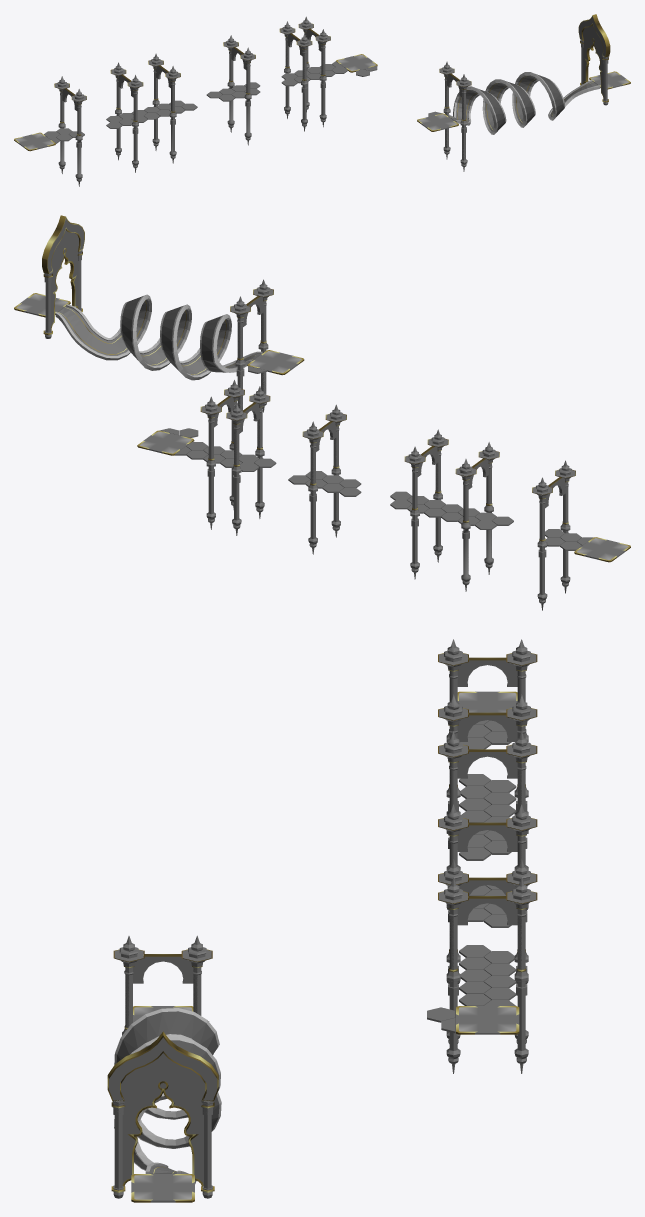
Rendered from NPSpace1.gltf.
The picture shows the model from 3 angles, top to bottom: view 1: azimuth 30°, elevation 25°; view 2: azimuth 150°, elevation 25°; view 3: azimuth 270°, elevation 25°; orthographic projection. The views are drawn at different scales.
Parts seen in each view (by area): view 1: stg070_k20_Mesh_0021, stg070_k20_Mesh_0008, stg070_k20_Mesh_0000, stg070_k20_Mesh_0011, stg070_o20_Mesh_0000, stg070_k20_Mesh_0002, stg070_k20_Mesh_0015, stg070_k20_Mesh_0027, stg070_k20_Mesh_0036, stg070_k20_Mesh_0033, stg070_k20_Mesh_0018, stg070_k20_Mesh_0007 (+1 smaller); view 2: stg070_k20_Mesh_0021, stg070_k20_Mesh_0011, stg070_k20_Mesh_0000, stg070_k20_Mesh_0002, stg070_o20_Mesh_0000, stg070_k20_Mesh_0008, stg070_k20_Mesh_0015, stg070_k20_Mesh_0027, stg070_k20_Mesh_0033, stg070_k20_Mesh_0036, stg070_k20_Mesh_0018, stg070_k20_Mesh_0007; view 3: stg070_k20_Mesh_0000, stg070_k20_Mesh_0021, stg070_k20_Mesh_0027, stg070_k20_Mesh_0011, stg070_o20_Mesh_0000, stg070_k20_Mesh_0008, stg070_k20_Mesh_0015, stg070_k20_Mesh_0033, stg070_k20_Mesh_0002, stg070_k20_Mesh_0007, stg070_k20_Mesh_0014, stg070_k20_Mesh_0036 (+2 smaller).
Part boxes in pixels (x1,y1,x2,y2): stg070_k20_Mesh_0021: (18,56,626,149); stg070_k20_Mesh_0008: (55,21,608,186); stg070_k20_Mesh_0000: (44,61,441,143); stg070_k20_Mesh_0011: (59,36,607,161); stg070_o20_Mesh_0000: (14,14,630,151); stg070_k20_Mesh_0002: (20,56,624,147); stg070_k20_Mesh_0015: (57,22,608,175); stg070_k20_Mesh_0027: (62,29,461,110); stg070_k20_Mesh_0036: (15,54,629,149); stg070_k20_Mesh_0033: (55,23,603,101); stg070_k20_Mesh_0018: (59,16,466,179); stg070_k20_Mesh_0007: (579,16,605,70); stg070_k20_Mesh_0021: (20,294,625,559); stg070_k20_Mesh_0011: (45,260,570,594); stg070_k20_Mesh_0000: (160,366,593,550); stg070_k20_Mesh_0002: (22,297,622,557); stg070_o20_Mesh_0000: (14,215,630,562); stg070_k20_Mesh_0008: (44,258,574,610); stg070_k20_Mesh_0015: (44,251,571,600); stg070_k20_Mesh_0027: (214,296,565,508); stg070_k20_Mesh_0033: (50,249,575,495); stg070_k20_Mesh_0036: (16,294,628,559); stg070_k20_Mesh_0018: (207,279,569,610); stg070_k20_Mesh_0007: (47,218,84,292); stg070_k20_Mesh_0000: (208,720,516,1033); stg070_k20_Mesh_0021: (114,691,519,1202); stg070_k20_Mesh_0027: (133,660,517,983); stg070_k20_Mesh_0011: (114,678,528,1188); stg070_o20_Mesh_0000: (107,653,537,1202); stg070_k20_Mesh_0008: (113,639,536,1198); stg070_k20_Mesh_0015: (112,650,530,1198); stg070_k20_Mesh_0033: (114,653,536,1102); stg070_k20_Mesh_0002: (134,693,516,1199); stg070_k20_Mesh_0007: (109,1037,217,1132); stg070_k20_Mesh_0014: (121,1053,205,1099); stg070_k20_Mesh_0036: (134,693,516,1199).
Bounding box in the file's own units: 297 × 63.8 × 106.
